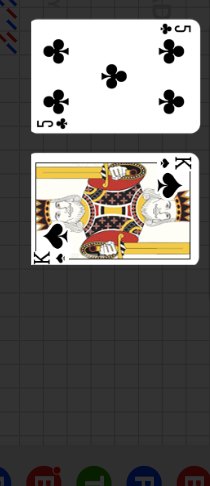5C: (158, 23, 193, 37)
KS: (157, 155, 193, 171)
